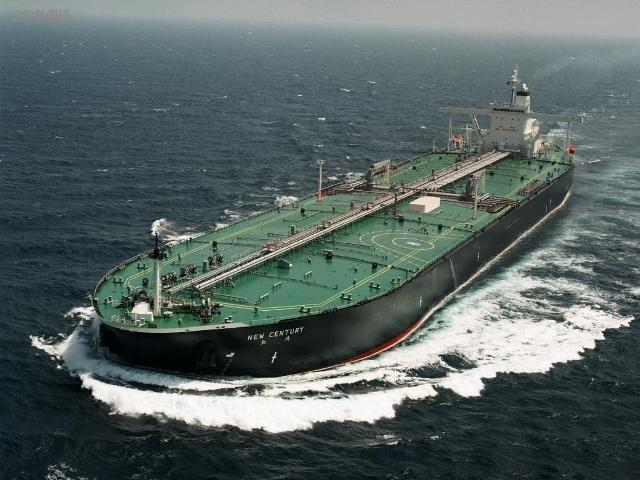Cargoship: (72, 60, 576, 384)
